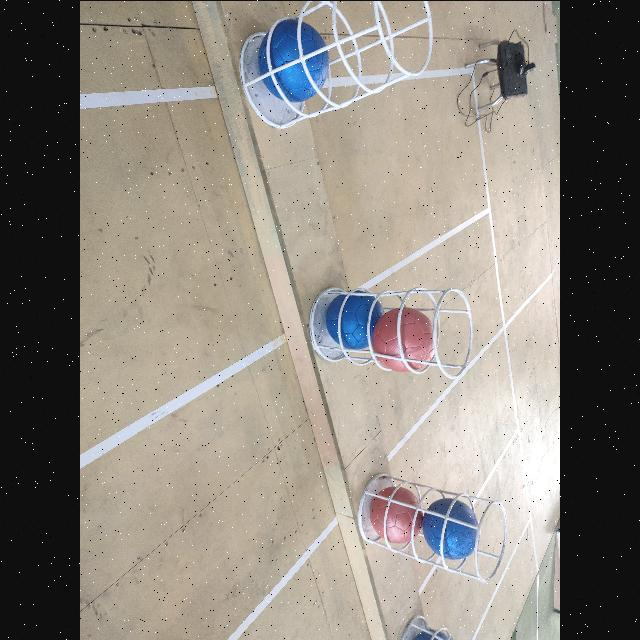B: (258, 19, 328, 103), (326, 288, 386, 348), (423, 497, 481, 557), (411, 628, 454, 640)
R: (371, 306, 439, 372), (371, 486, 422, 542)
